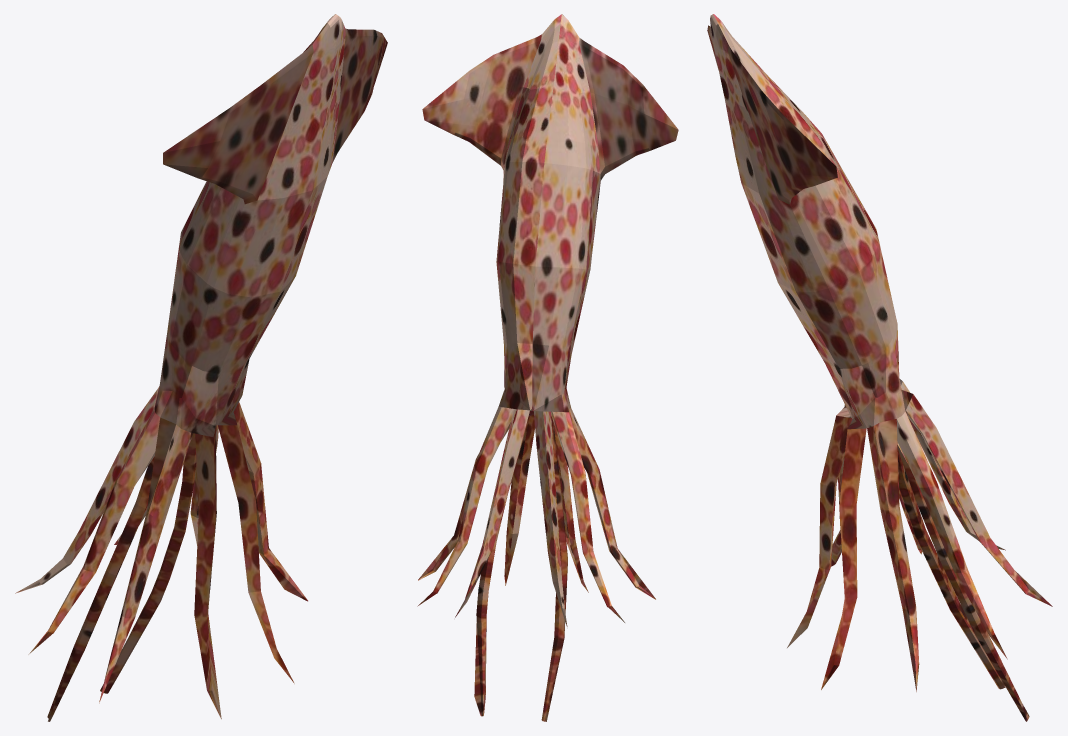
File: calamar1.obj
3 views of the same model, side by side, from view 1: azimuth 30°, elevation 25°; view 2: azimuth 150°, elevation 25°; view 3: azimuth 270°, elevation 25° (orthographic). The views are drawn at different scales.
Visible parts, largest first — view 1: Calamar:squid; view 2: Calamar:squid; view 3: Calamar:squid.
Boxes of the visible parts, left/top/right/bottom form: Calamar:squid: left=15, top=14, right=387, bottom=721; Calamar:squid: left=417, top=14, right=678, bottom=721; Calamar:squid: left=707, top=14, right=1052, bottom=721.
Bounding box in the file's own units: 1.27 × 3.05 × 1.3.
1 material, 1 textured.
